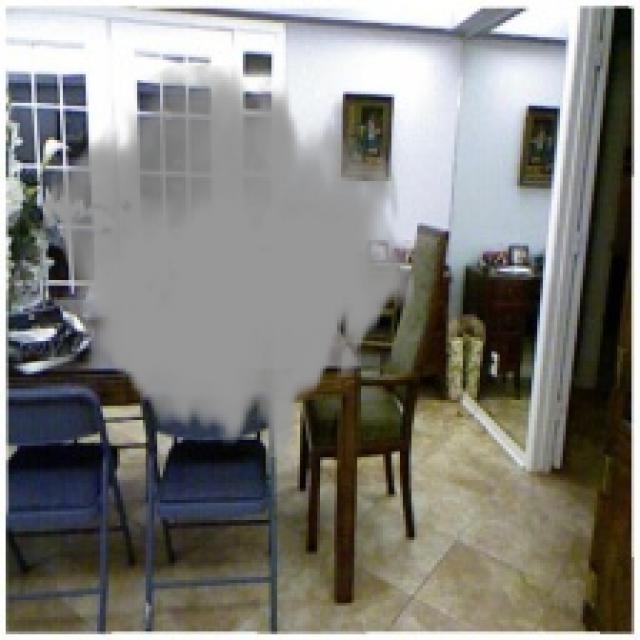Smoke: (40, 66, 417, 457)
